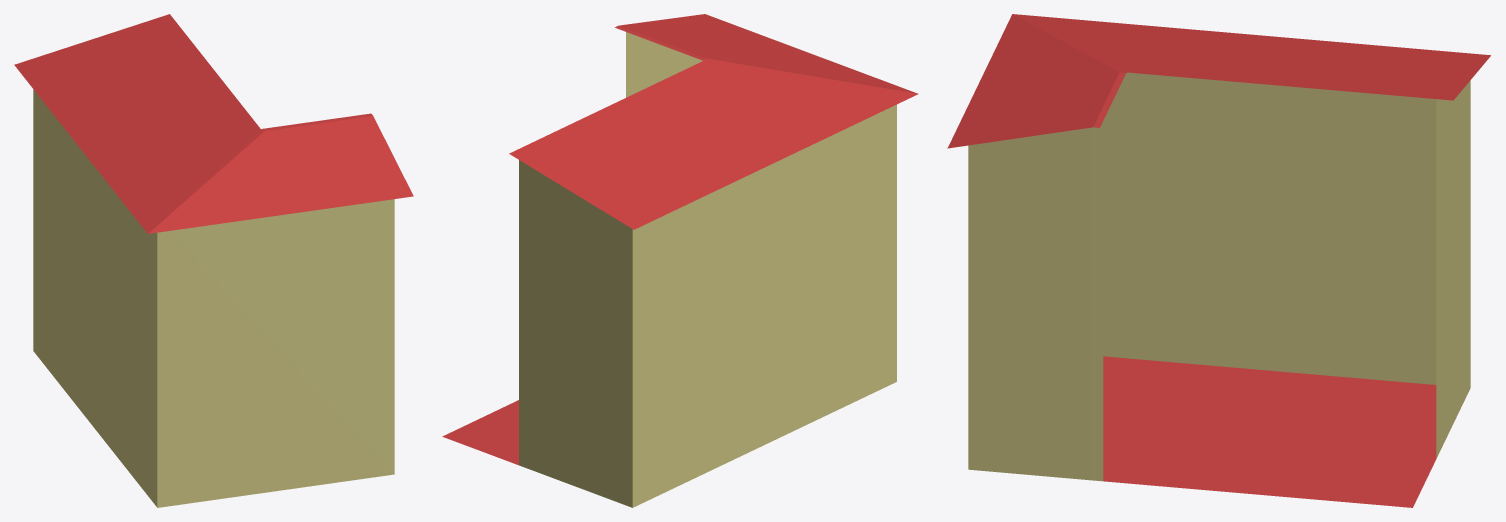
3 renders of one model, left to right at view 1: azimuth 30°, elevation 25°; view 2: azimuth 150°, elevation 25°; view 3: azimuth 270°, elevation 25°, orthographic. The views are drawn at different scales.
Bounding box in the file's own units: 5.6 × 7.71 × 5.64.
